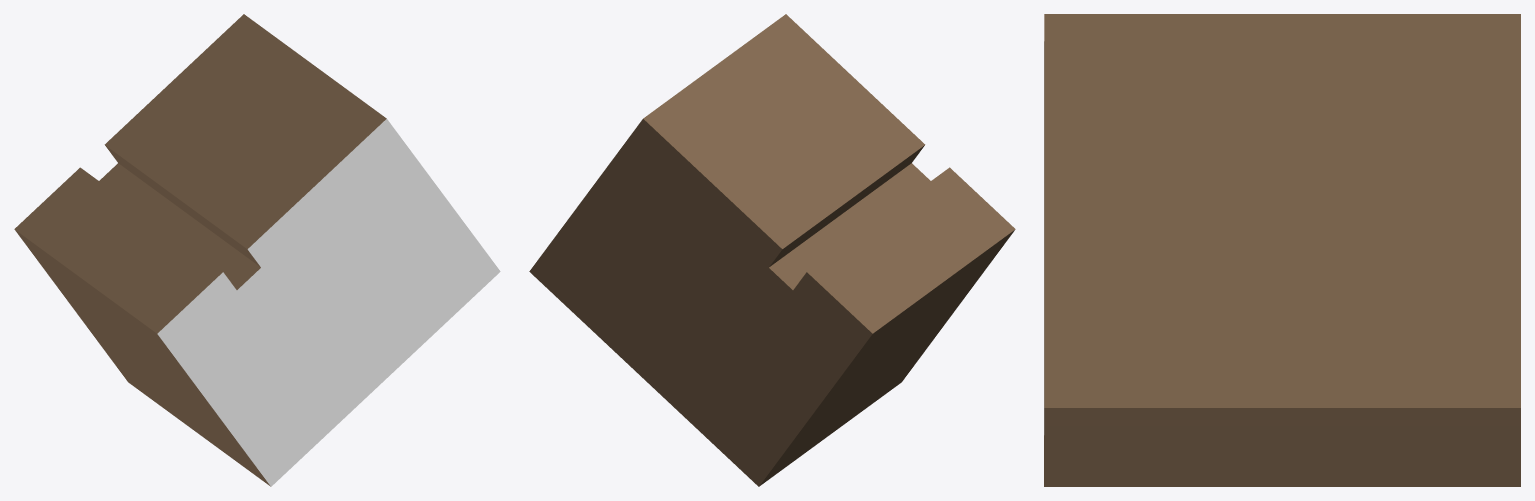
3 views of the same model, side by side, from view 1: azimuth 30°, elevation 25°; view 2: azimuth 150°, elevation 25°; view 3: azimuth 270°, elevation 25° (orthographic). The views are drawn at different scales.
Parts seen in each view (by area): view 1: City_1885213; view 2: City_1885213; view 3: City_1885213.
Boxes of the visible parts, x1,y1,x2,y2 form: City_1885213: (14, 14, 500, 486); City_1885213: (529, 14, 1015, 486); City_1885213: (1044, 14, 1520, 486).
Bounding box in the file's own units: 1827 × 1728 × 1317.
